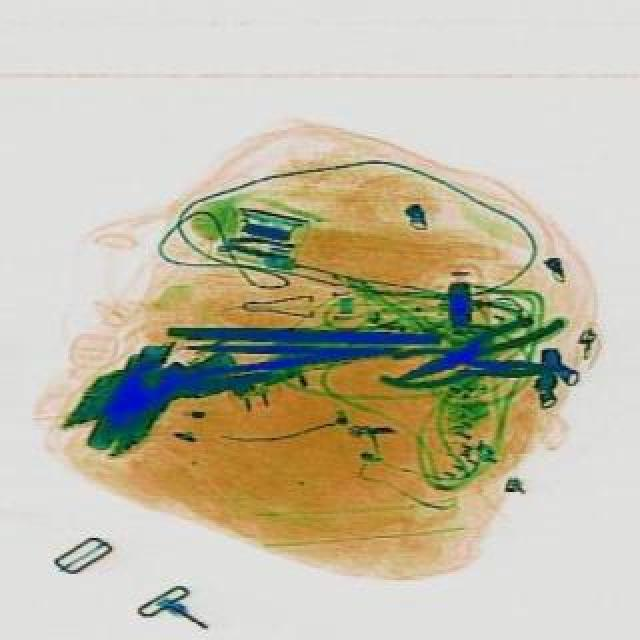wrench: (382, 300, 562, 394), (374, 344, 558, 388)
